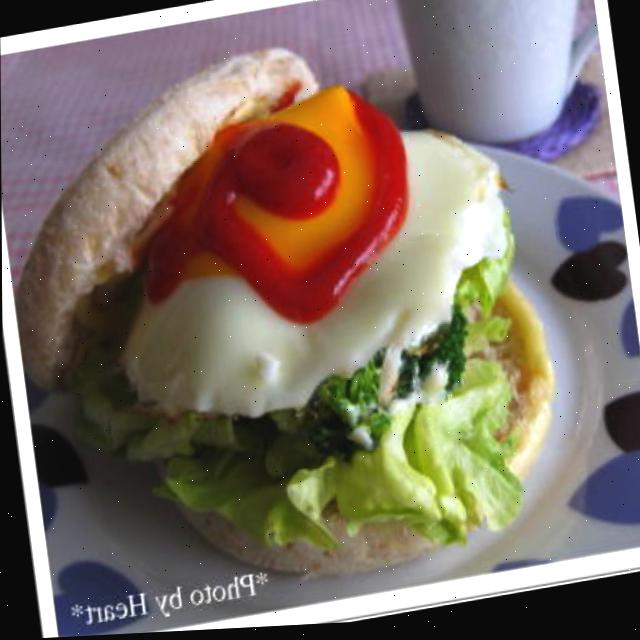鸡蛋料理: (63, 34, 555, 433)
